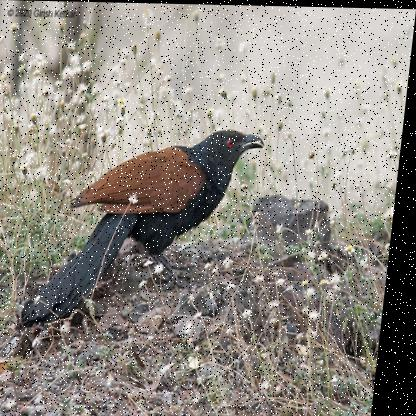Burung: (27, 125, 268, 330)
